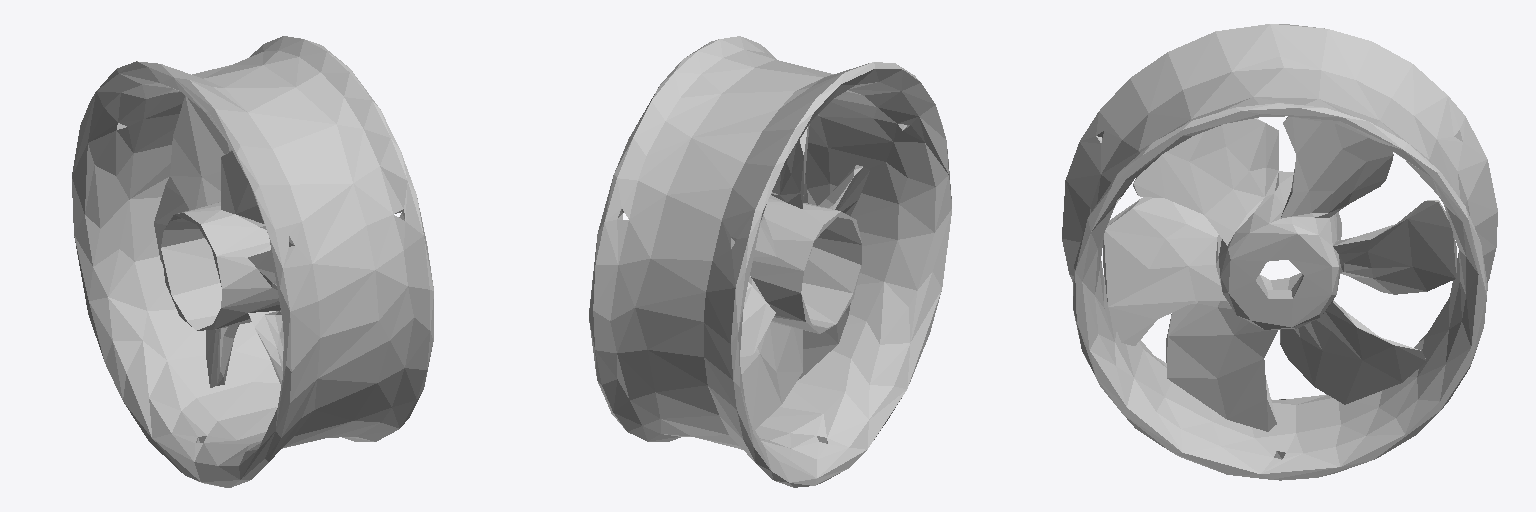
The model's file is bluevolta_propeller.obj.
3 views of the same model, side by side, from view 1: azimuth 30°, elevation 25°; view 2: azimuth 150°, elevation 25°; view 3: azimuth 270°, elevation 25° (orthographic).
Parts seen in each view (by area): view 1: Propeller; view 2: Propeller; view 3: Propeller.
Part boxes in pixels (left/top/right/bottom): Propeller: left=72, top=36, right=433, bottom=487; Propeller: left=589, top=36, right=951, bottom=487; Propeller: left=1062, top=24, right=1497, bottom=480.
Bounding box in the file's own units: 0.0727 × 0.177 × 0.1774.